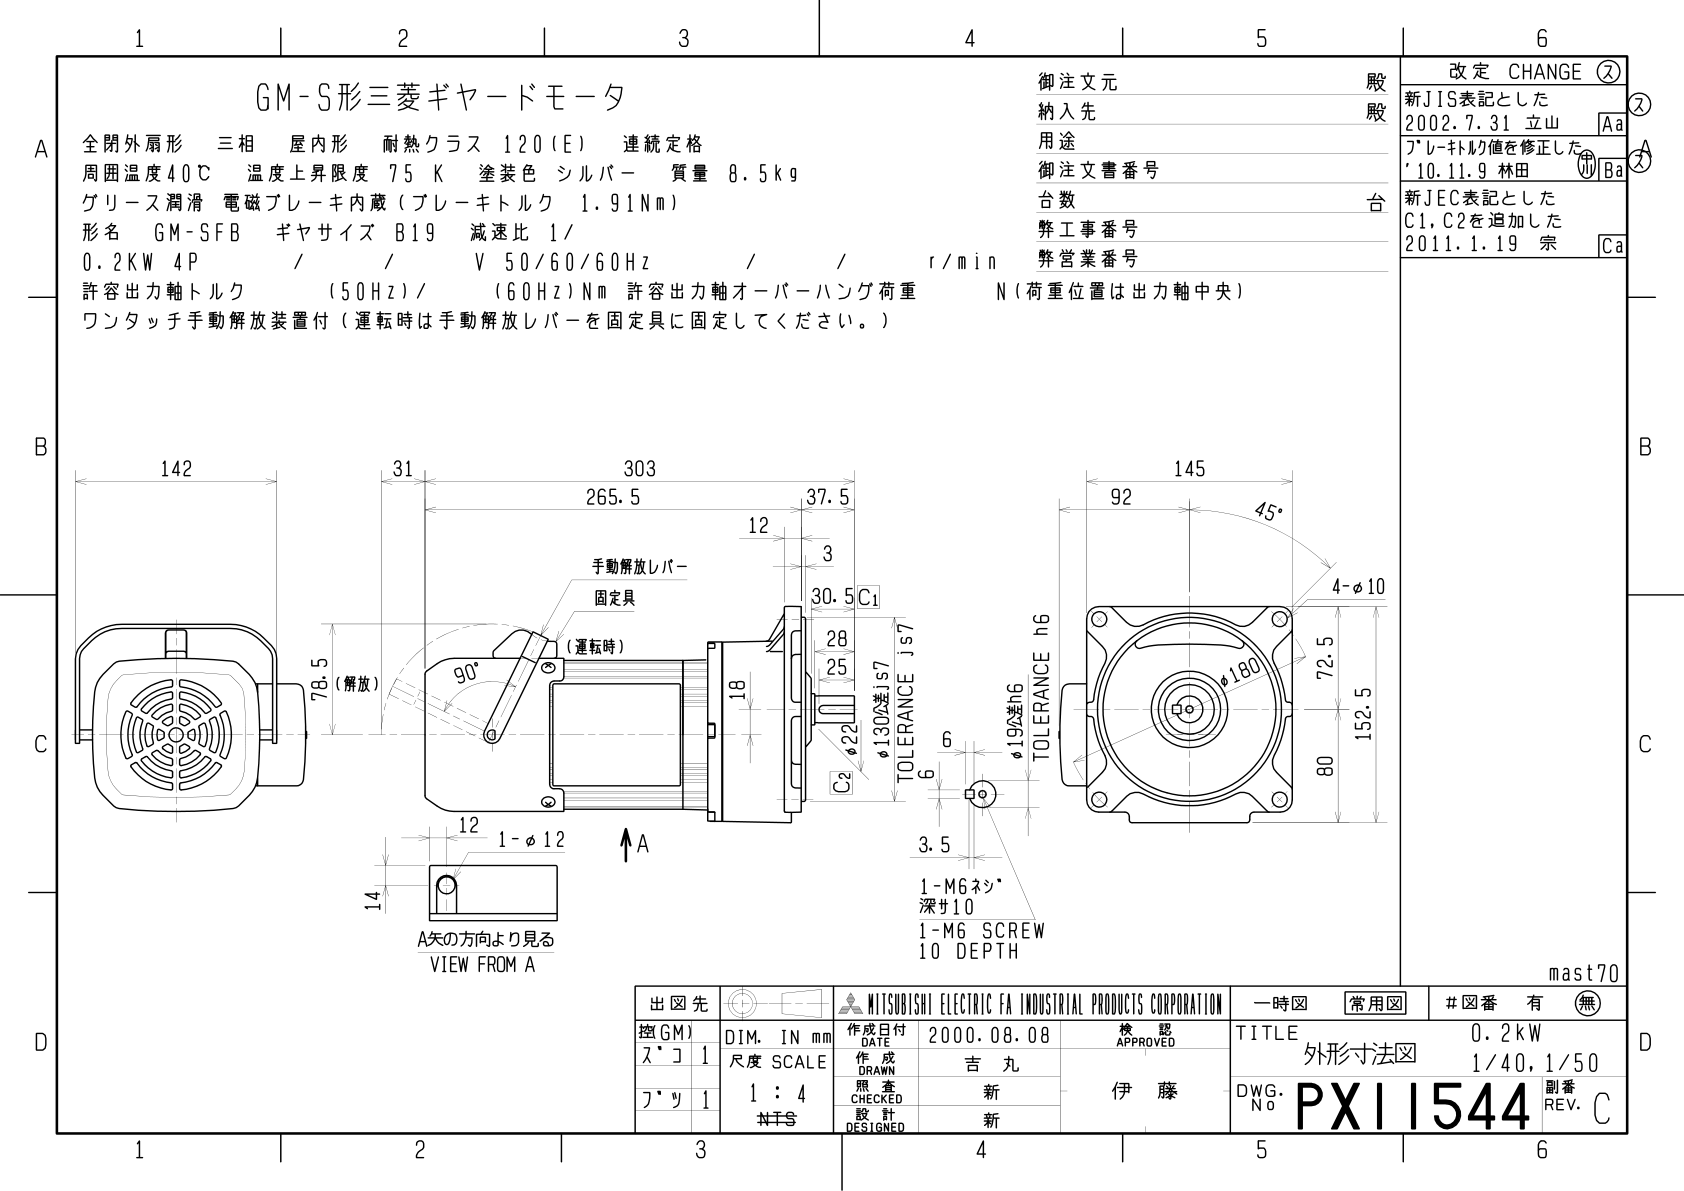GM_S_手動ブレーキ＿三相_フランジ: (67, 416, 1395, 978)
